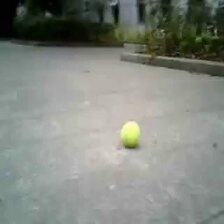tennis: (121, 121, 142, 149)
